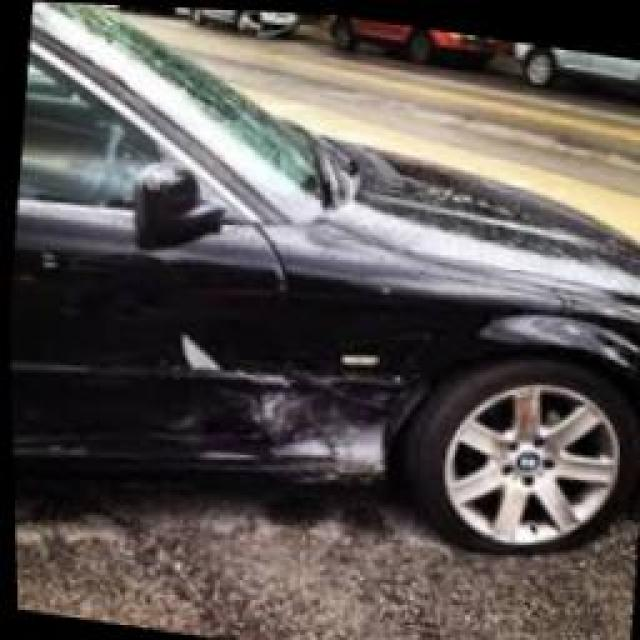Door: (141, 269, 297, 474)
Fender: (302, 322, 465, 476)
